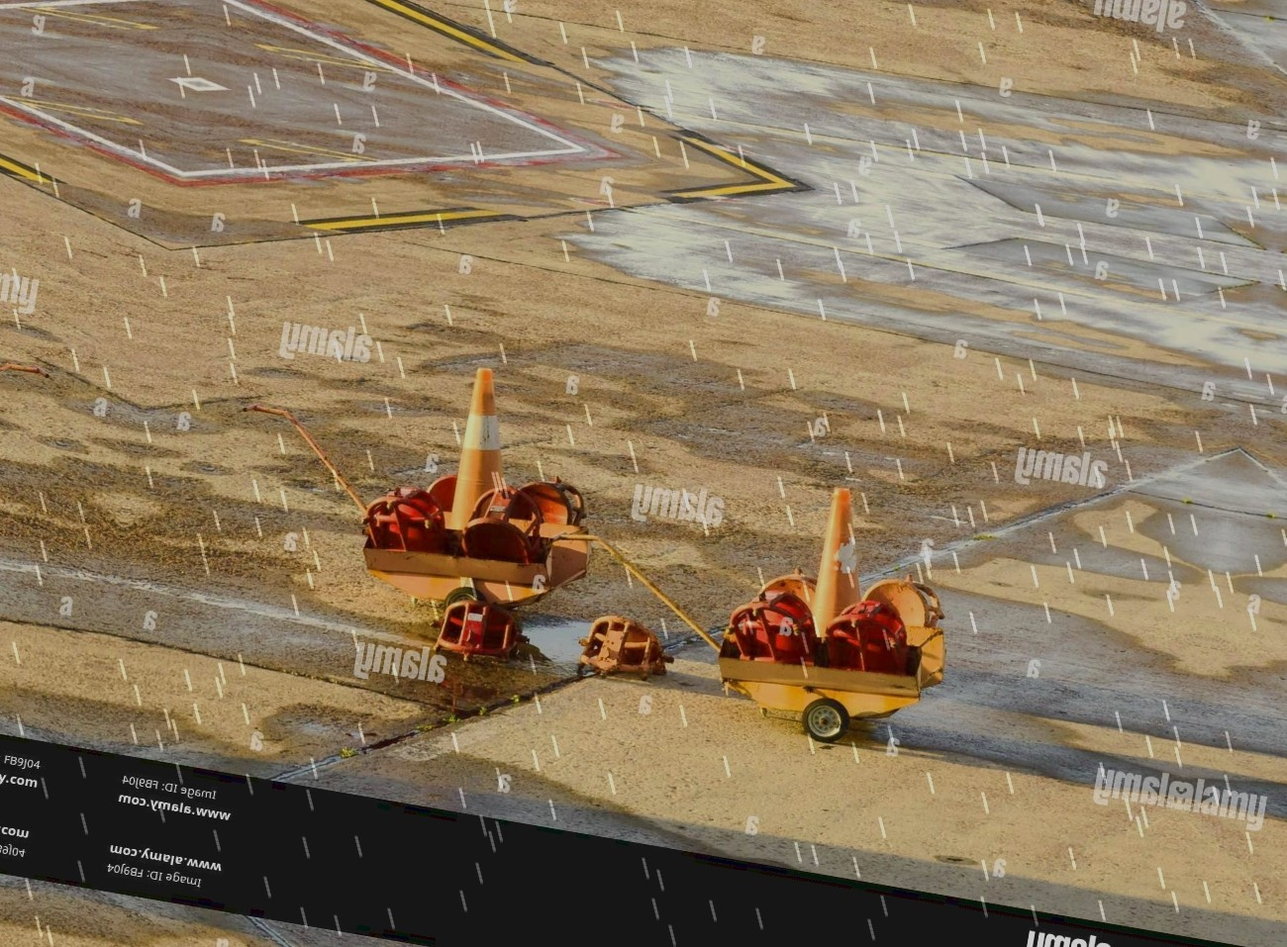chock: (721, 578, 825, 671), (566, 607, 680, 691), (455, 480, 553, 570), (818, 590, 914, 681), (358, 481, 450, 561), (433, 592, 529, 666), (859, 566, 949, 632), (505, 467, 591, 533), (748, 562, 820, 625), (418, 464, 459, 510)
wheel: (797, 694, 855, 748), (438, 582, 493, 628)
